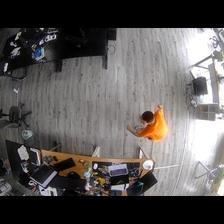fall: (126, 104, 169, 142)
